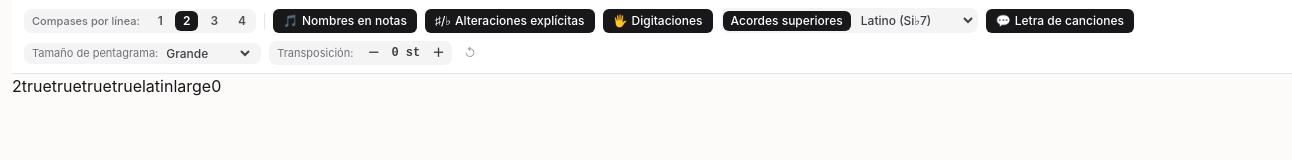
Test: OrthogonalControlsBar › toggles chords and allows changing chord notation
Select "Americano (B♭7)" in the dropdown with test id "select-chord-notation" at coordinates (914, 20), box [853,10,976,31]
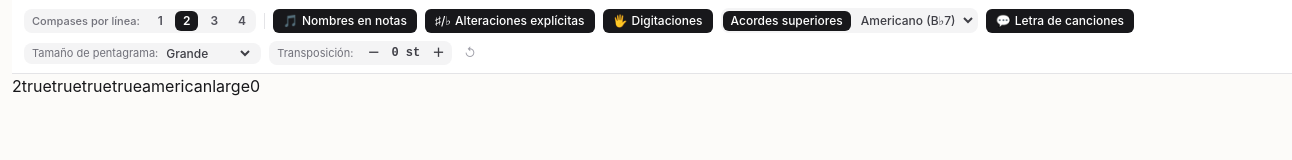
Expected: the text with test id "insp-chord-not" reads "american", [142,76,212,96]
Click the button with test id "toggle-chords" at coordinates (787, 20), box [723,10,851,30]
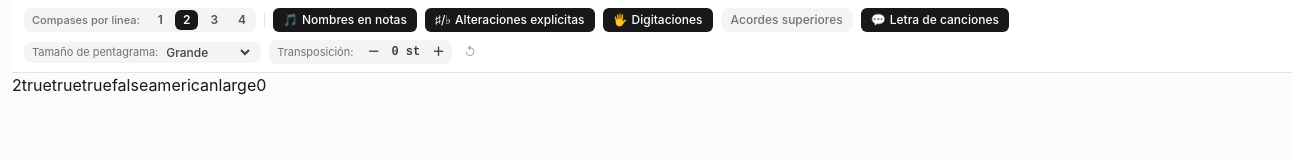
Expected: the text with test id "insp-chords" reads "false", [112,75,148,95]
Expected: the dropdown with test id "select-chord-notation" is gone
